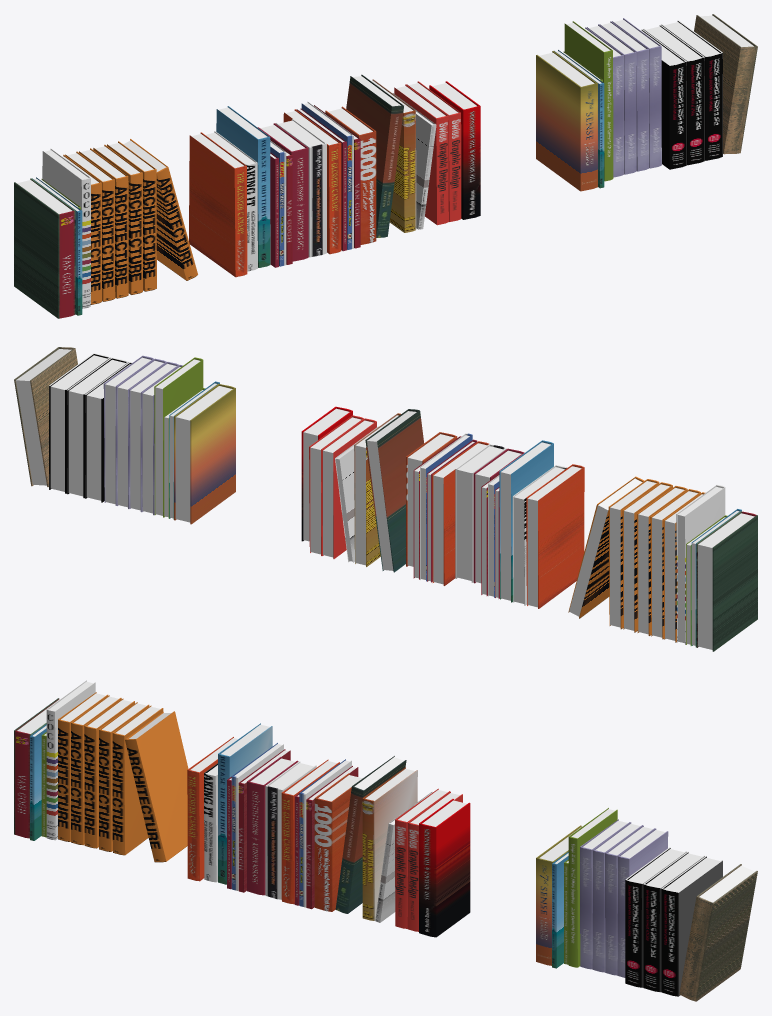
The model's file is books 2.FBX.
3 renders of one model, top to bottom at view 1: azimuth 30°, elevation 25°; view 2: azimuth 150°, elevation 25°; view 3: azimuth 330°, elevation 25°, orthographic.
Visible parts, largest first — view 1: books 2, books 2 b; view 2: books 2, books 2 b; view 3: books 2, books 2 b.
Boxes of the visible parts, x1=… form: books 2: x1=14, y1=74, x2=480, y2=318; books 2 b: x1=536, y1=14, x2=757, y2=191; books 2: x1=301, y1=406, x2=757, y2=651; books 2 b: x1=14, y1=347, x2=235, y2=524; books 2: x1=14, y1=680, x2=470, y2=937; books 2 b: x1=536, y1=808, x2=757, y2=1001.
Size of the model in its own units: 170 by 30.07 by 19.62.
Materials: 1 (1 with a texture image).
